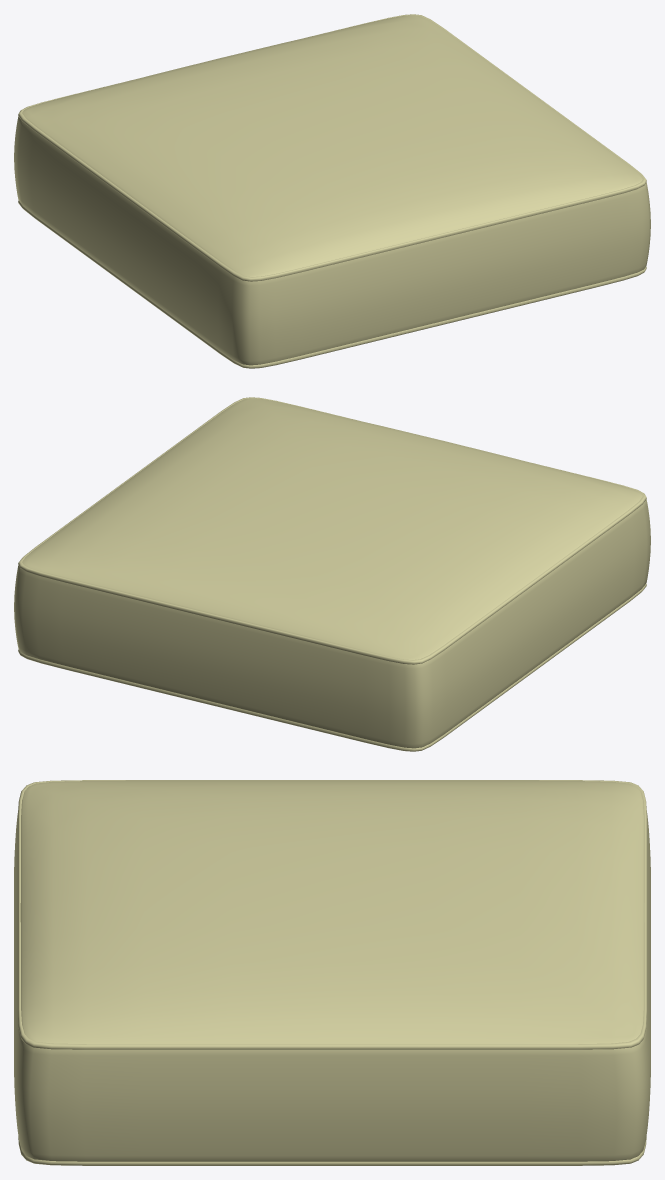
File: customSeatCushionSquared.glb
The picture shows the model from 3 angles, top to bottom: view 1: azimuth 30°, elevation 25°; view 2: azimuth 150°, elevation 25°; view 3: azimuth 270°, elevation 25°; orthographic projection. The views are drawn at different scales.
Visible parts, largest first — view 1: cushion, welting; view 2: cushion, welting; view 3: cushion, welting.
Part boxes in pixels (x1,y1,x2,y2): cushion: (14, 15, 650, 365); welting: (18, 14, 646, 368); cushion: (14, 398, 650, 748); welting: (18, 397, 646, 751); cushion: (14, 780, 650, 1161); welting: (18, 780, 646, 1165).
Bounding box in the file's own units: 1.31 × 0.3357 × 1.31.
